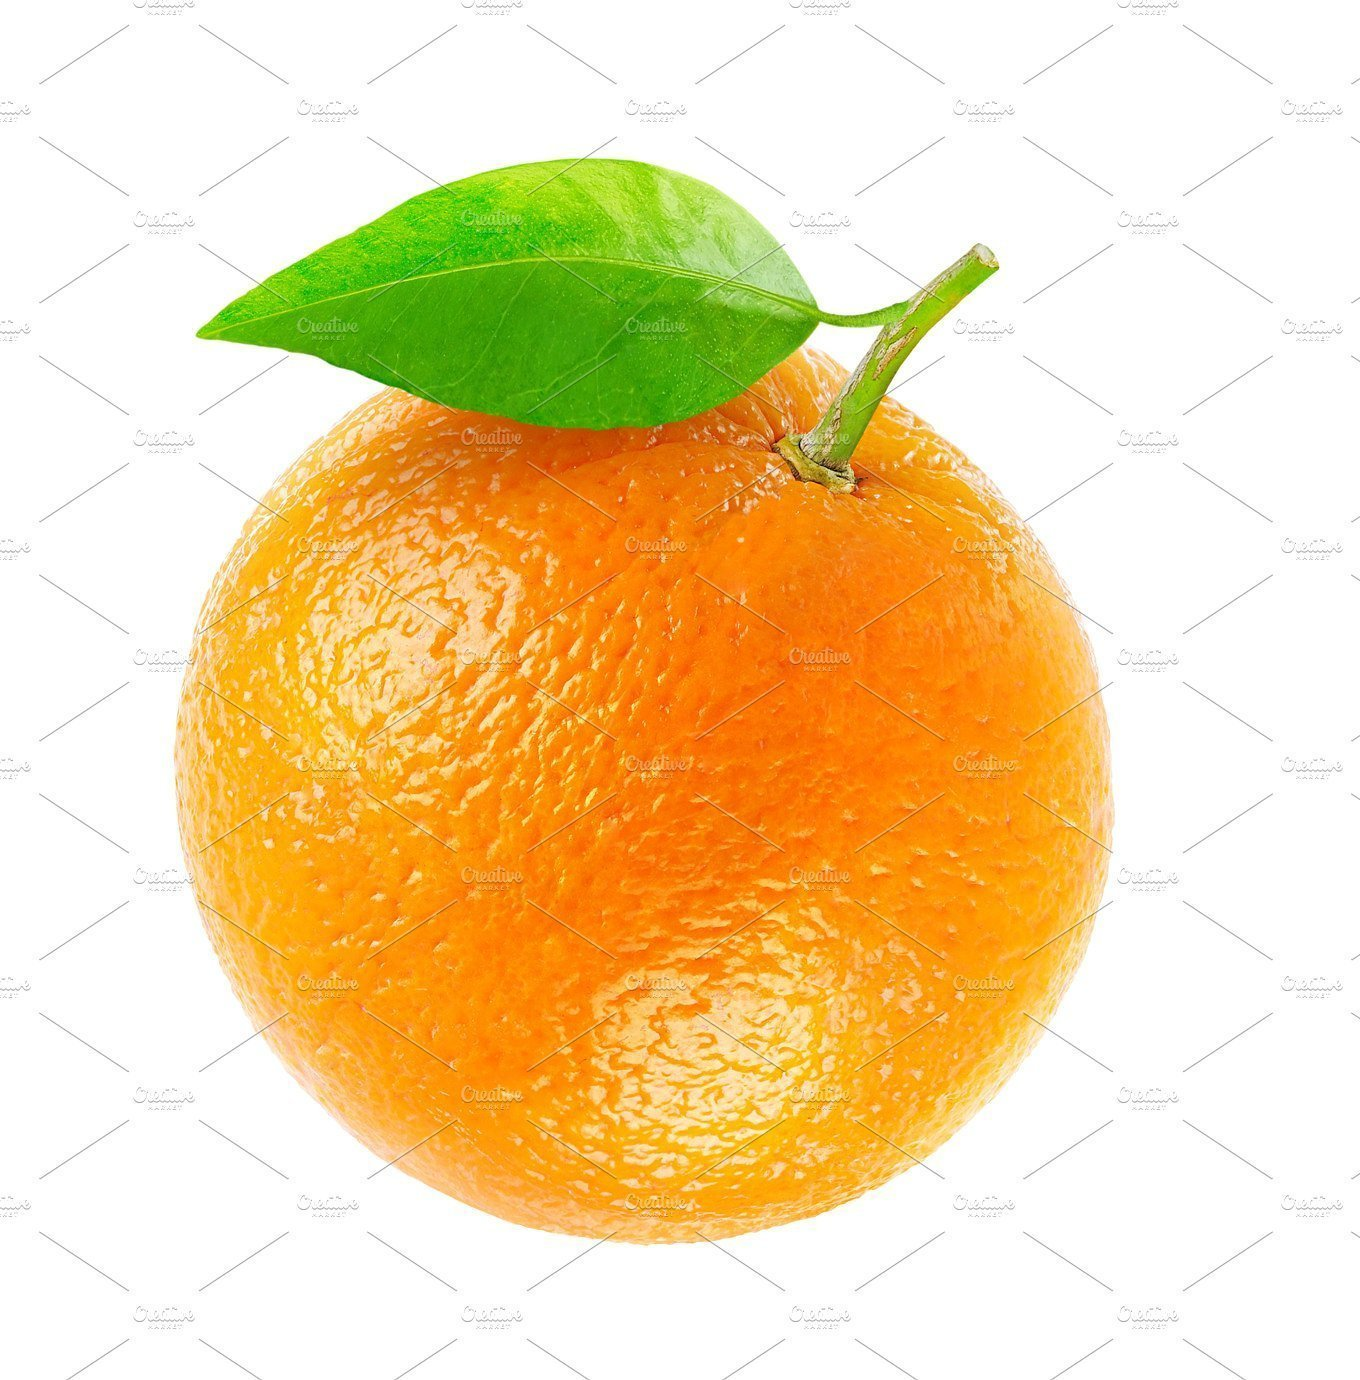orange: (178, 304, 1132, 1247)
